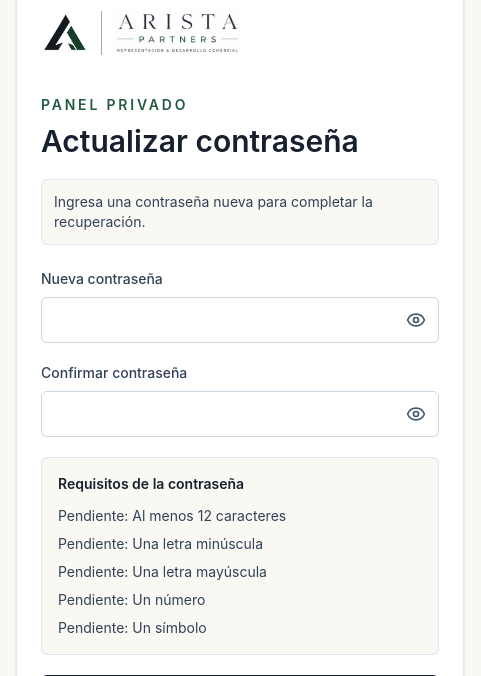
Scenario: admin password recovery › rechaza contraseña menor a 12 caracteres y requisitos incompletos
In the password field labelled "Nueva contraseña": (218, 320) [42,298,394,342], type "Aa1!"
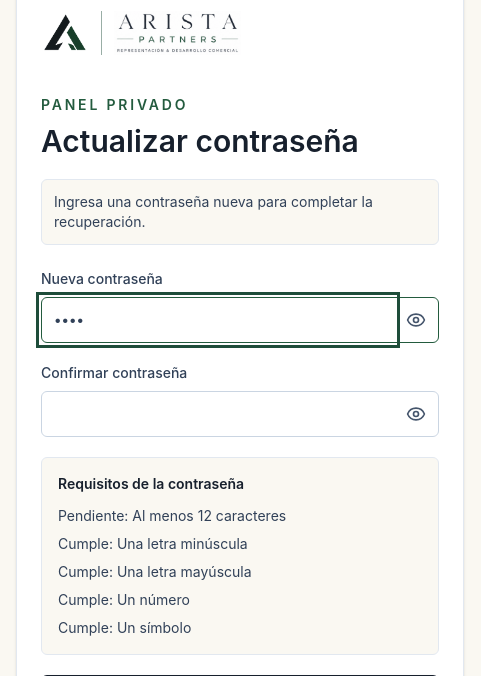
In the password field labelled "Confirmar contraseña": (218, 414) [42,392,394,436], type "Aa1!"
(page scrolled)
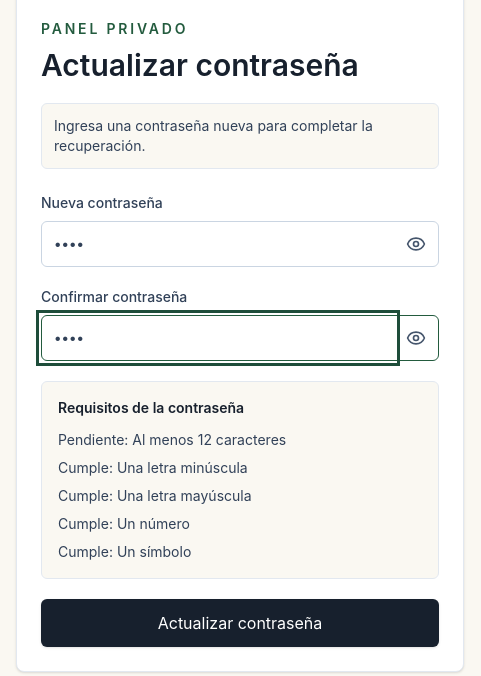
Click the button "Actualizar contraseña": (240, 623) [41,599,439,647]
(page scrolled)
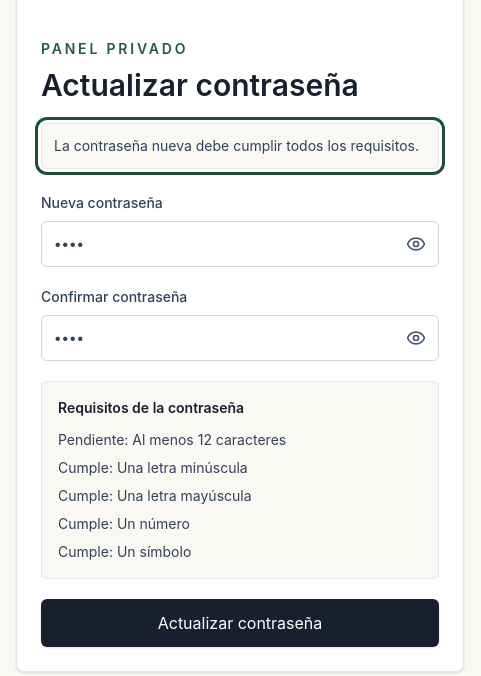
Expected: the message reads "La contraseña nueva debe cumplir todos los requisitos.", [54,137,419,154]
